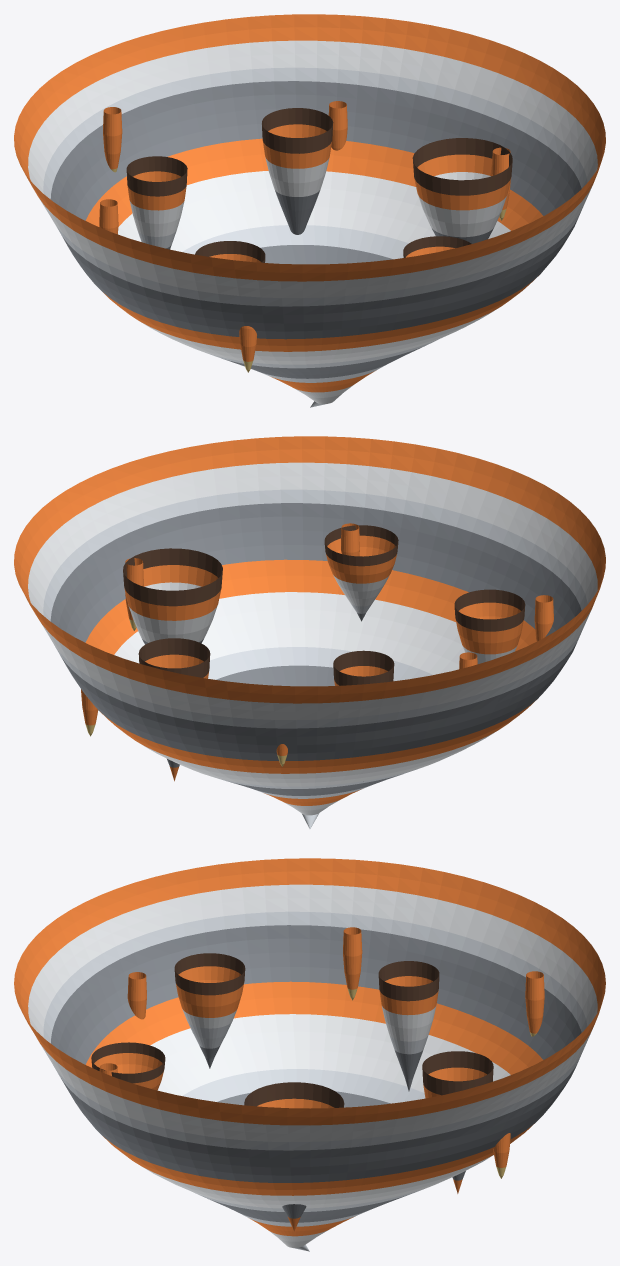
File: IslandKeelEmber.obj
3 renders of one model, top to bottom at view 1: azimuth 30°, elevation 25°; view 2: azimuth 150°, elevation 25°; view 3: azimuth 270°, elevation 25°, orthographic.
Size of the model in its own units: 20 by 10 by 20.
